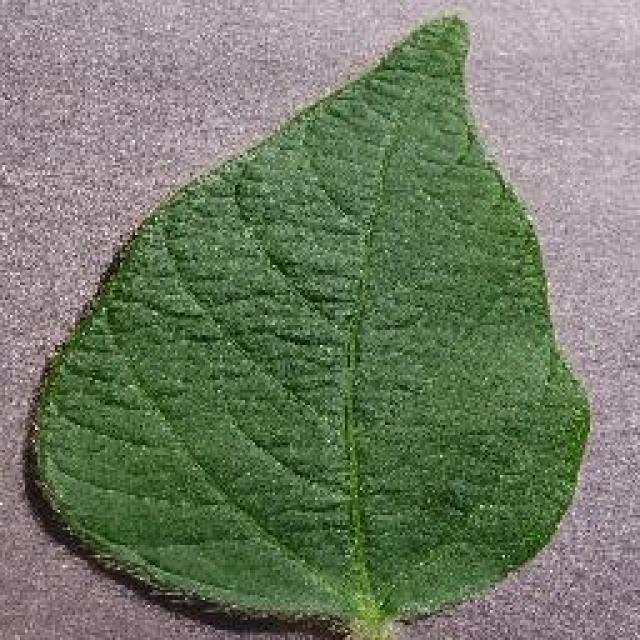Soy_healthy: (74, 91, 597, 569)
